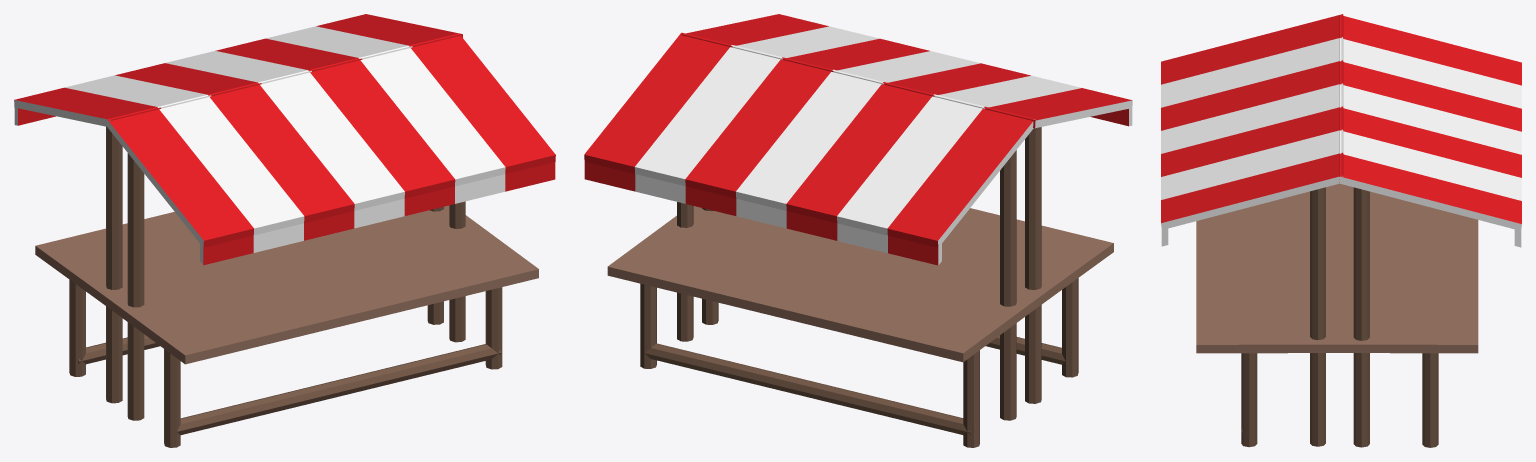
The model's file is bazaar-item-07.obj.
The picture shows the model from 3 angles, left to right: view 1: azimuth 30°, elevation 25°; view 2: azimuth 150°, elevation 25°; view 3: azimuth 270°, elevation 25°; orthographic projection. The views are drawn at different scales.
Parts seen in each view (by area): view 1: bazaar-item-07; view 2: bazaar-item-07; view 3: bazaar-item-07.
Part boxes in pixels (<box>): bazaar-item-07: <box>14,14,555,447</box>; bazaar-item-07: <box>584,14,1132,447</box>; bazaar-item-07: <box>1161,14,1521,447</box>.
Size of the model in its own units: 1.99 by 1.57 by 1.87.
